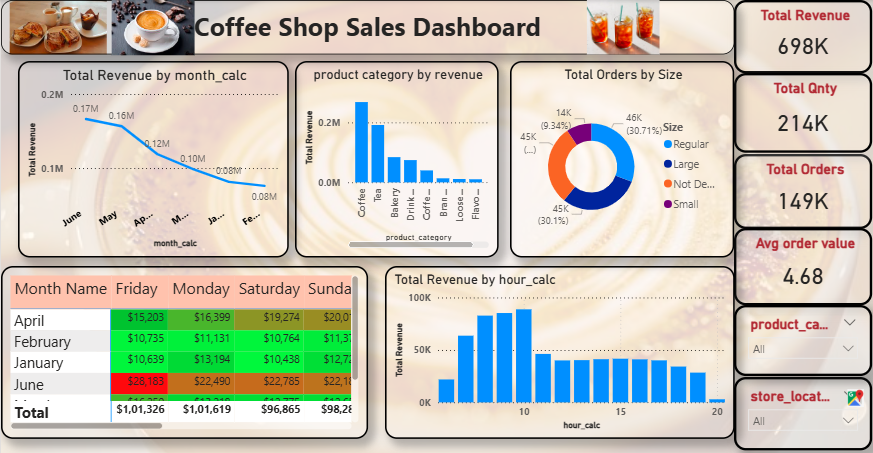

The dashboard page shown, as its layout file describes it:
{"tool":"powerbi","page":{"name":"Page 1","canvas":[1178,578],"ordinal":0},"visuals":[{"type":"card","title":"Total Revenue","fields":{"Values":["Final_coffee_shop_sales.Total Revenue"]},"box":[928.8,0,175,92.5],"z":0},{"type":"card","title":"Total Orders","fields":{"Values":["Final_coffee_shop_sales.Total Orders"]},"box":[928.8,195,175,95],"z":1000},{"type":"card","title":"Total Qnty","fields":{"Values":["Final_coffee_shop_sales.Total Qnty"]},"box":[928.8,92.5,175,101.2],"z":2000},{"type":"card","title":"Avg order value","fields":{"Values":["Final_coffee_shop_sales.Avg order value"]},"box":[928.8,288.8,175,97.5],"z":3000},{"type":"lineChart","fields":{"Y":["Final_coffee_shop_sales.Total Revenue"],"Category":["Final_coffee_shop_sales.month_calc"]},"box":[21.2,77.5,342.5,248.8],"z":4000},{"type":"clusteredColumnChart","title":"product category by revenue","fields":{"Category":["Final_coffee_shop_sales.product_category"],"Y":["Final_coffee_shop_sales.Total Revenue"]},"box":[372.5,77.5,257.5,248.8],"z":5000},{"type":"columnChart","fields":{"Y":["Final_coffee_shop_sales.Total Revenue"],"Category":["Final_coffee_shop_sales.hour_calc"]},"box":[486.2,337.5,442.5,218.8],"z":7000},{"type":"donutChart","fields":{"Category":["Final_coffee_shop_sales.Size"],"Y":["Final_coffee_shop_sales.Total Orders"]},"box":[645,77.5,283.8,248.8],"z":8000},{"type":"pivotTable","fields":{"Rows":["Final_coffee_shop_sales.Month Name"],"Columns":["Final_coffee_shop_sales.day_name_calc"],"Values":["Sum(Final_coffee_shop_sales.Total_Bill)"]},"box":[0,337.5,465,218.8],"z":9000},{"type":"slicer","fields":{"Values":["Final_coffee_shop_sales.store_location"]},"box":[928.8,477.5,175,92.5],"z":10000},{"type":"image","box":[1045,492.5,75,22.5],"z":11000},{"type":"slicer","fields":{"Values":["Final_coffee_shop_sales.product_category"]},"box":[928.8,386.2,175,90],"z":12000},{"type":"image","box":[0,0,145,68.8],"z":13000},{"type":"textbox","box":[0,0,928.8,68.8],"z":14000},{"type":"image","box":[128.8,0,126.2,70],"z":15000},{"type":"image","box":[713.8,0,150,68.8],"z":16000}]}

Visuals, with their boxes on the page's 1178x578 design canvas (x1, y1, x2, y2). These are canvas units, not pixel positions in the 873x453 screenshot, which may show the page scaled, cropped or inside an application window:
"Total Revenue" card: bbox=(929, 0, 1104, 92)
"Total Orders" card: bbox=(929, 195, 1104, 290)
"Total Qnty" card: bbox=(929, 92, 1104, 194)
"Avg order value" card: bbox=(929, 289, 1104, 386)
lineChart - Final_coffee_shop_sales.Total Revenue x Final_coffee_shop_sales.month_calc: bbox=(21, 78, 364, 326)
"product category by revenue" clusteredColumnChart: bbox=(372, 78, 630, 326)
columnChart - Final_coffee_shop_sales.Total Revenue x Final_coffee_shop_sales.hour_calc: bbox=(486, 338, 929, 556)
donutChart - Final_coffee_shop_sales.Size x Final_coffee_shop_sales.Total Orders: bbox=(645, 78, 929, 326)
pivotTable - Final_coffee_shop_sales.Month Name x Final_coffee_shop_sales.day_name_calc: bbox=(0, 338, 465, 556)
slicer - Final_coffee_shop_sales.store_location: bbox=(929, 478, 1104, 570)
image: bbox=(1045, 492, 1120, 515)
slicer - Final_coffee_shop_sales.product_category: bbox=(929, 386, 1104, 476)
image: bbox=(0, 0, 145, 69)
textbox: bbox=(0, 0, 929, 69)
image: bbox=(129, 0, 255, 70)
image: bbox=(714, 0, 864, 69)
